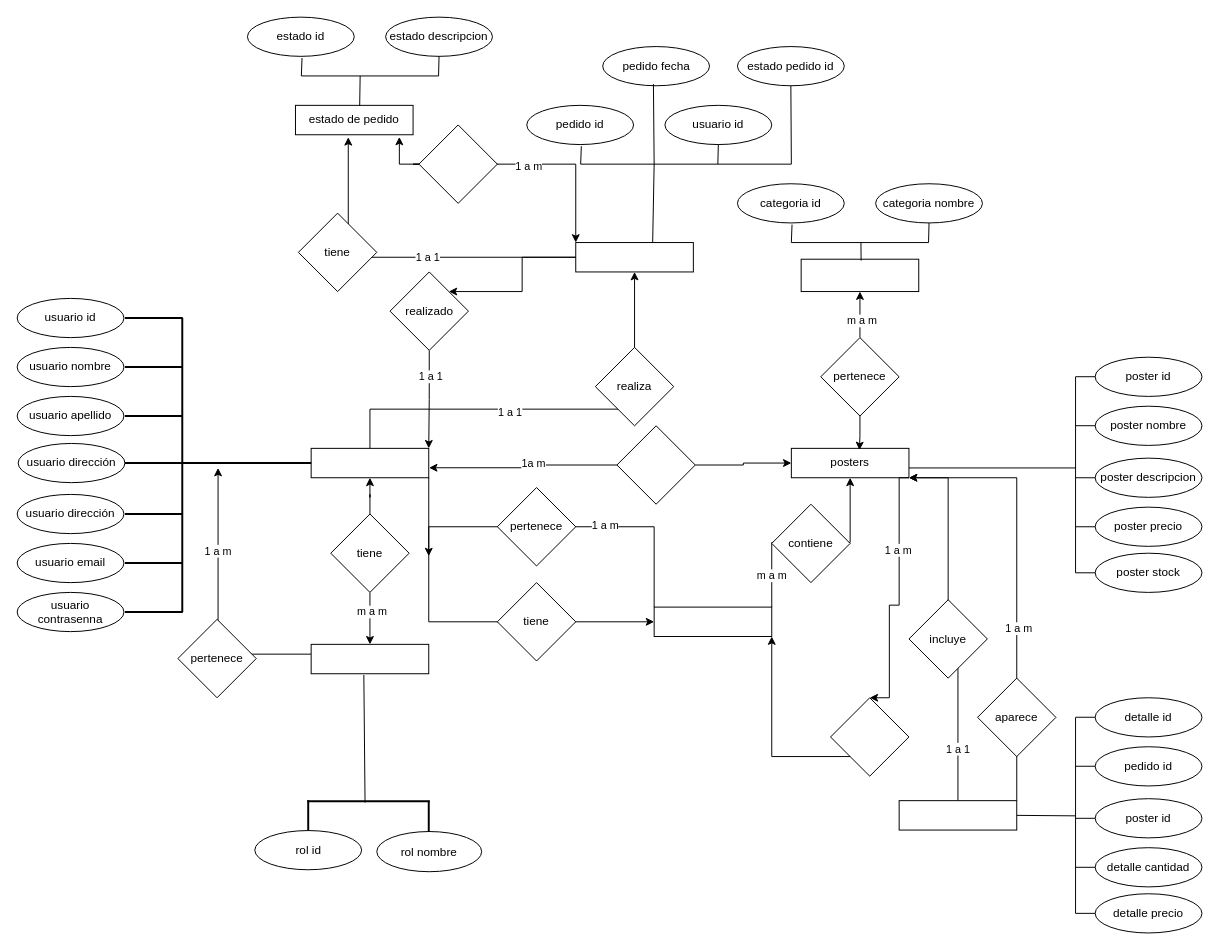
The diagram is 1219 pixels wide and 951 high, and some of its shapes have lost their labels. The shapes that lost their labels are listed below. From the top down, each one's centre as x and y in pixels, then its label:
the point at 457,163: asocia
the point at 634,257: pedido
the point at 859,275: categoria
the point at 369,462: usuario
the point at 655,464: compra
the point at 712,621: carrito de compra
the point at 369,658: roles
the point at 869,736: está
the point at 957,815: Detalle pedido
